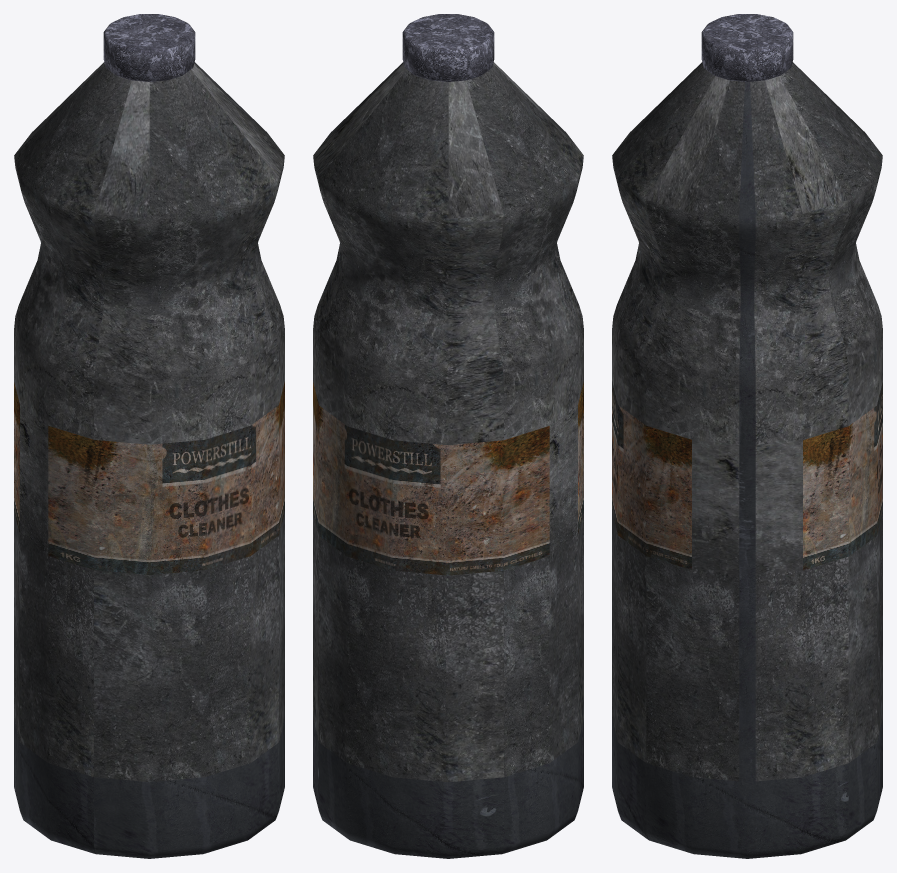
File: ClothesCleaner.FBX
The picture shows the model from 3 angles, left to right: view 1: azimuth 30°, elevation 25°; view 2: azimuth 150°, elevation 25°; view 3: azimuth 270°, elevation 25°; orthographic projection.
Parts seen in each view (by area): view 1: ClothesCleaner; view 2: ClothesCleaner; view 3: ClothesCleaner.
Boxes of the visible parts, x1,y1,x2,y2 form: ClothesCleaner: (14,14,284,858); ClothesCleaner: (313,14,583,858); ClothesCleaner: (612,14,882,858).
Size of the model in its own units: 77.88 by 247 by 78.31.
